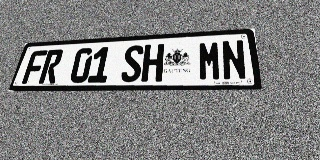0: (69, 48, 94, 83)
1: (87, 47, 112, 83)
F: (21, 50, 48, 84)
H: (141, 44, 164, 82)
M: (198, 41, 222, 81)
N: (221, 39, 247, 81)
R: (38, 49, 64, 84)
S: (120, 45, 144, 82)
